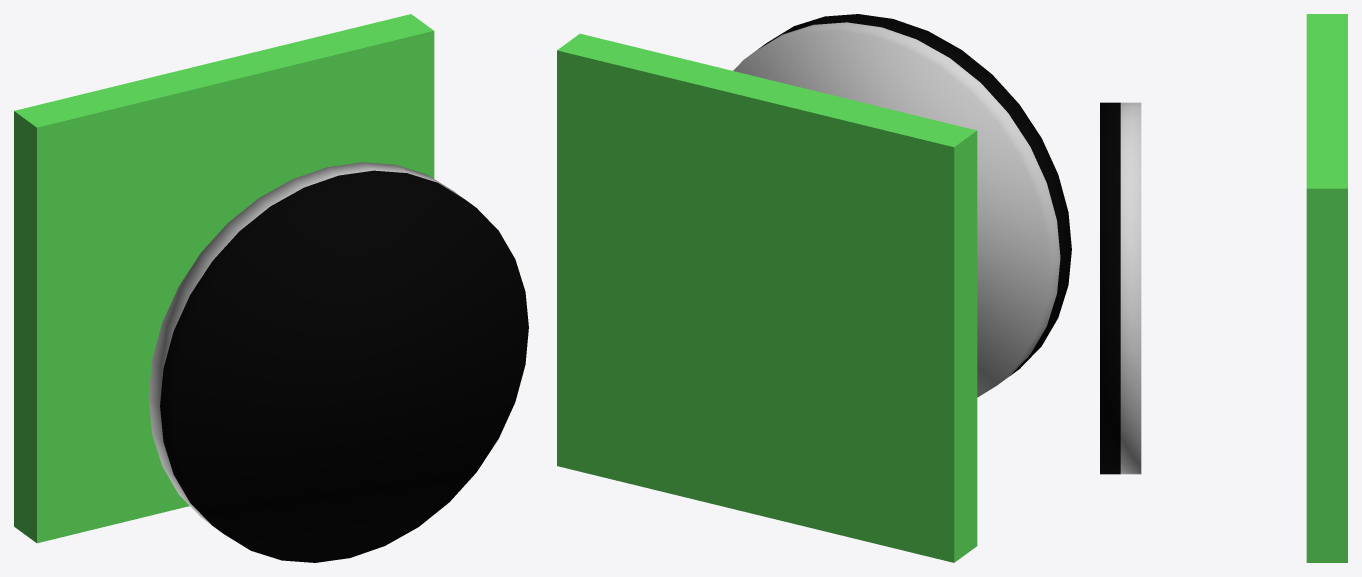
File: board.glb
3 renders of one model, left to right at view 1: azimuth 30°, elevation 25°; view 2: azimuth 150°, elevation 25°; view 3: azimuth 270°, elevation 25°, orthographic. The views are drawn at different scales.
Parts seen in each view (by area): view 1: Piece, Board; view 2: Board, Piece; view 3: Board, Piece.
Boxes of the visible parts, x1=… form: Piece: x1=148, y1=162, x2=528, y2=562; Board: x1=14, y1=14, x2=434, y2=543; Board: x1=557, y1=33, x2=977, y2=562; Piece: x1=733, y1=14, x2=1071, y2=397; Board: x1=1306, y1=14, x2=1347, y2=562; Piece: x1=1100, y1=102, x2=1141, y2=474.
Bounding box in the file's own units: 1 × 1 × 0.6.
